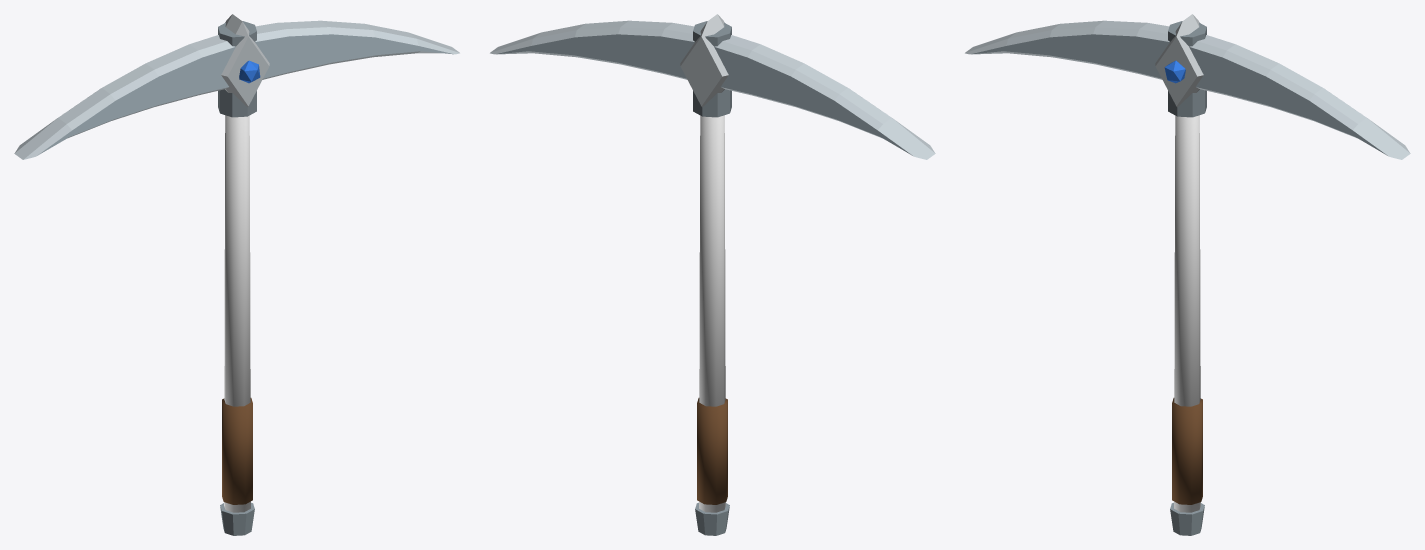
The model's file is platinum_pickaxe.glb.
3 renders of one model, left to right at view 1: azimuth 30°, elevation 25°; view 2: azimuth 150°, elevation 25°; view 3: azimuth 330°, elevation 25°, orthographic.
Visible parts, largest first — view 1: platinum_pickaxe_v0; view 2: platinum_pickaxe_v0; view 3: platinum_pickaxe_v0.
Boxes of the visible parts, left/top/right/bottom form: platinum_pickaxe_v0: left=14, top=14, right=459, bottom=535; platinum_pickaxe_v0: left=490, top=14, right=935, bottom=535; platinum_pickaxe_v0: left=965, top=14, right=1410, bottom=535.
Bounding box in the file's own units: 0.8 × 0.895 × 0.089.
